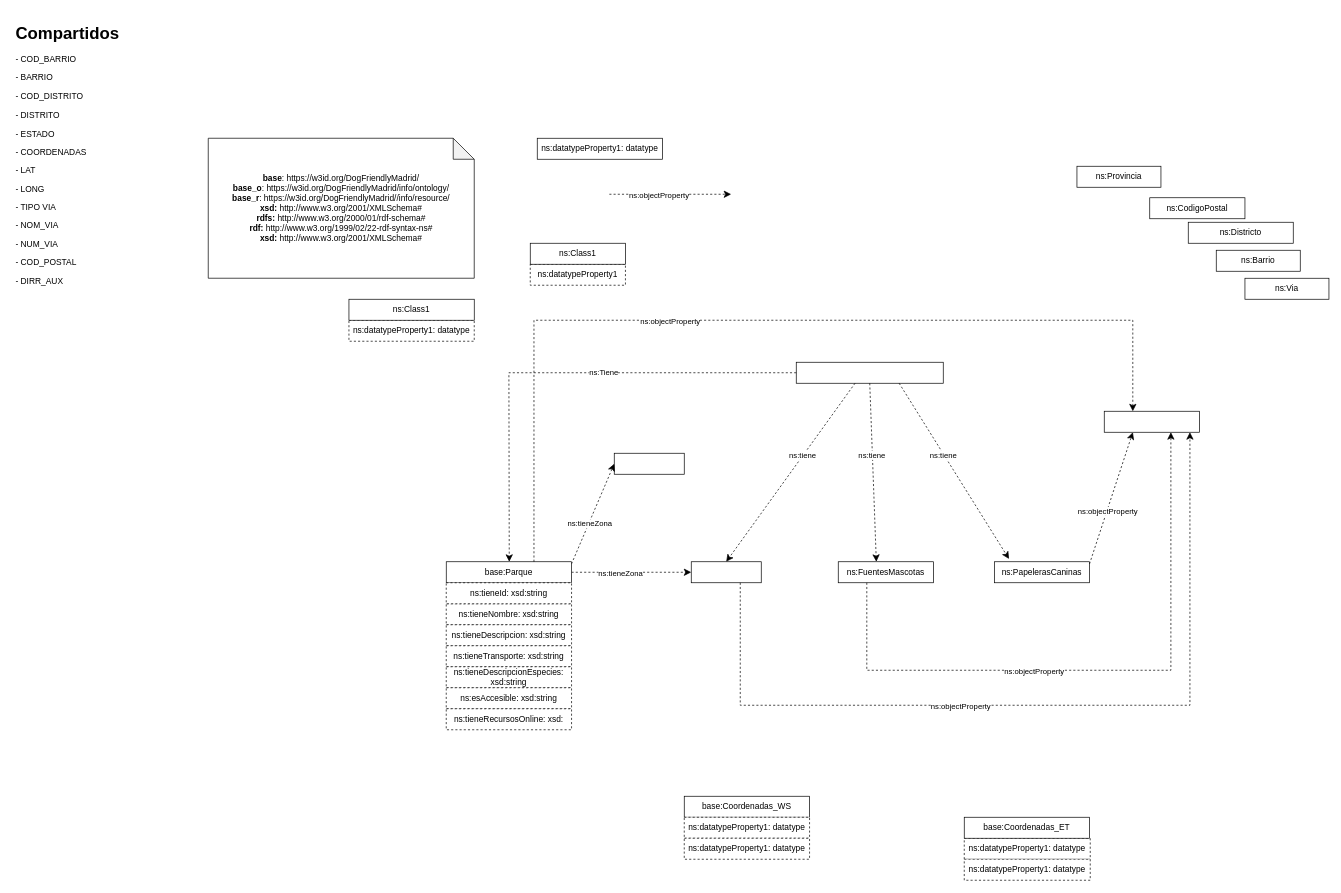
This 1341x893 diagram has some shape labels left out. Here are the shapes that lost their labels. From the top down, the centre of each, then its label:
the point at 869,372: ns:Localidad
the point at 1151,421: ns:Direccion
the point at 649,463: ns:ZonaInfantil
the point at 726,572: ns:ZonaCanina
